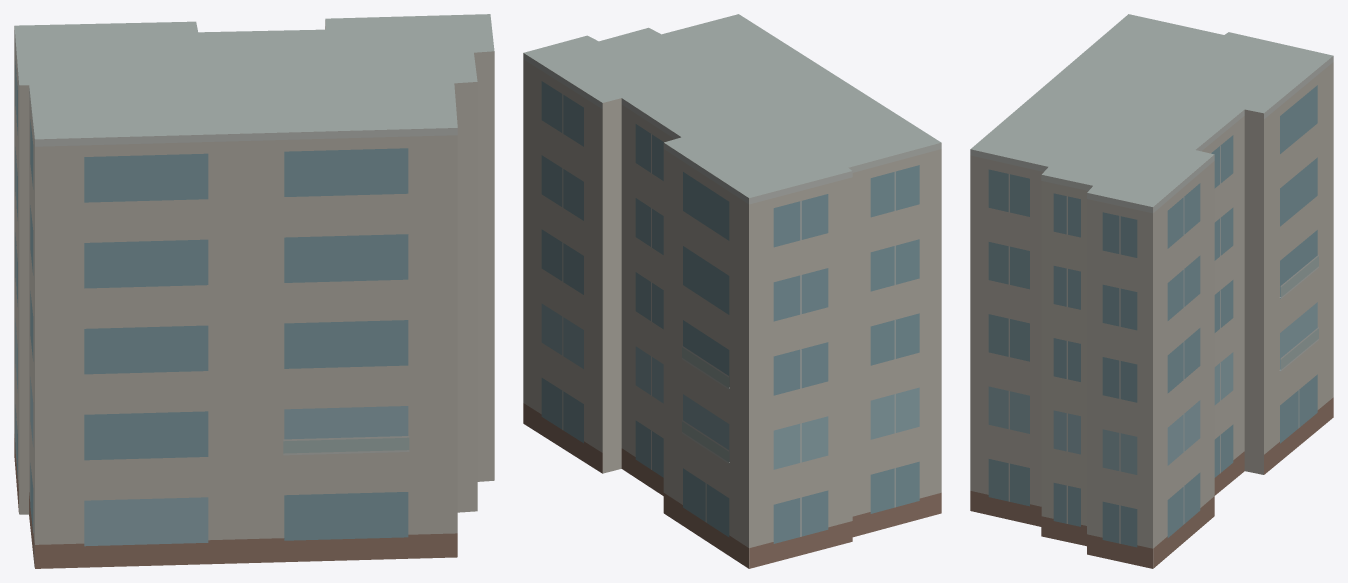
Rendered from survey-upis-33022210.glb.
3 views of the same model, side by side, from view 1: azimuth 30°, elevation 25°; view 2: azimuth 150°, elevation 25°; view 3: azimuth 270°, elevation 25° (orthographic). The views are drawn at different scales.
Parts seen in each view (by area): view 1: survey-upis-33022210.tmp; view 2: survey-upis-33022210.tmp; view 3: survey-upis-33022210.tmp.
Boxes of the visible parts, x1,y1,x2,y2 form: survey-upis-33022210.tmp: (14,14,494,568); survey-upis-33022210.tmp: (523,14,941,568); survey-upis-33022210.tmp: (970,14,1333,568).
Bounding box in the file's own units: 16.39 × 14.3 × 13.02.
